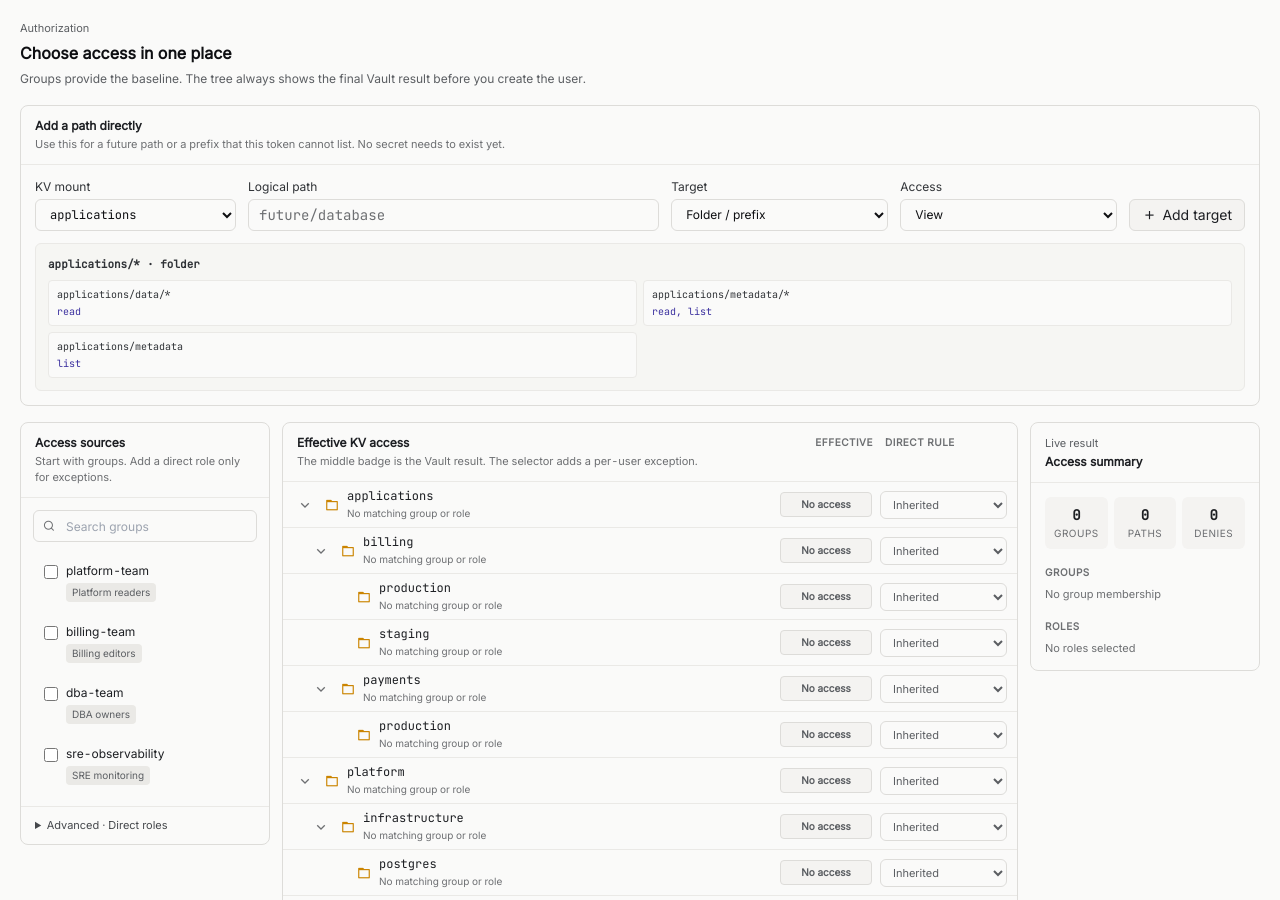
Test: AccessScreen › recalculates the effective tree immediately when a group is selected
The width and height of the screenshot is (1280, 900).
Expected: the text with test id "effective-level-platform:" reads "No access", [801,774,851,786]
Click the checkbox labelled "platform-team Platform readers": (51, 572) [44,565,58,579]
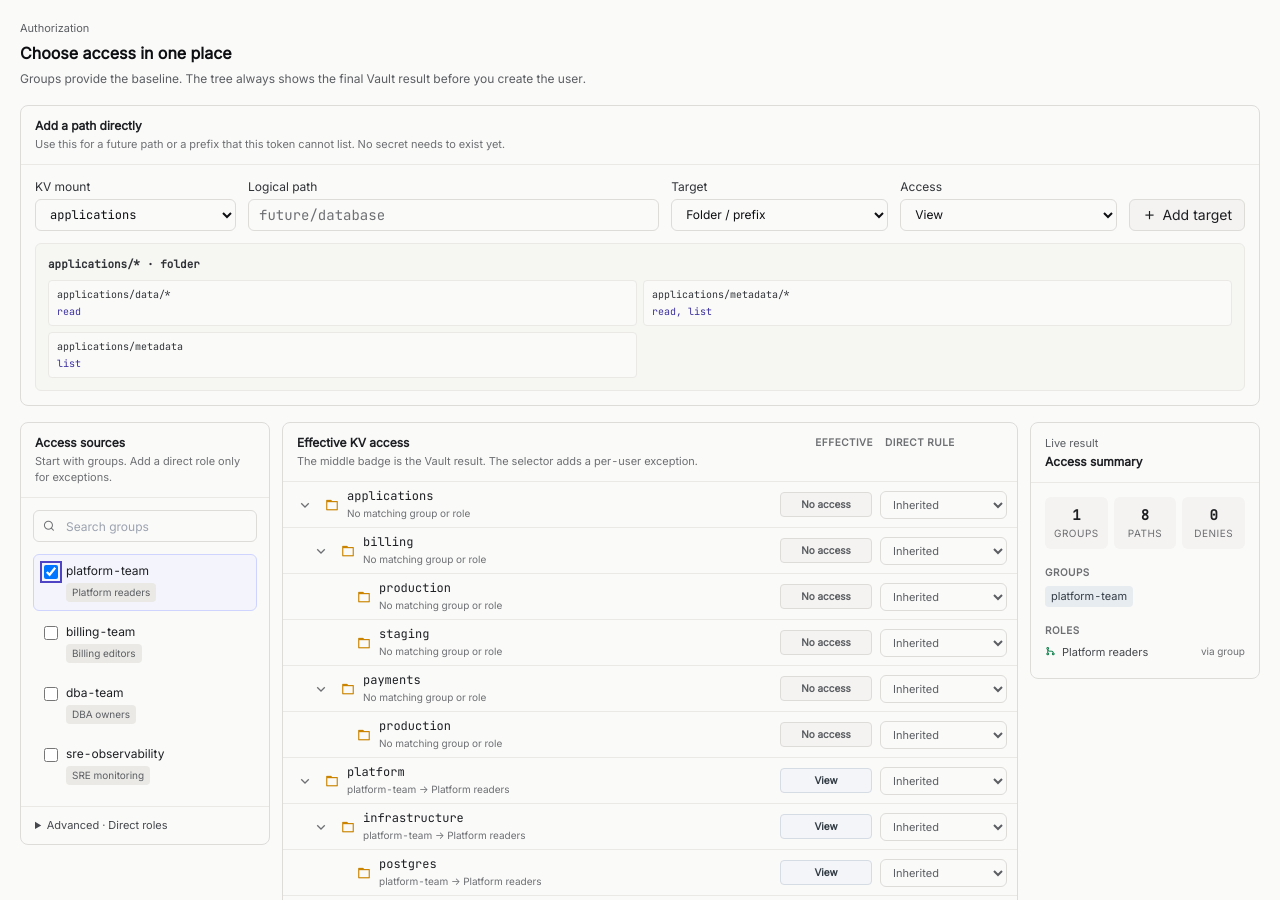
Expected: the text "Platform readers" is shown, [66,583,156,602]
Now the text with test id "effective-level-platform:" reads "View", box [814,774,838,786]
